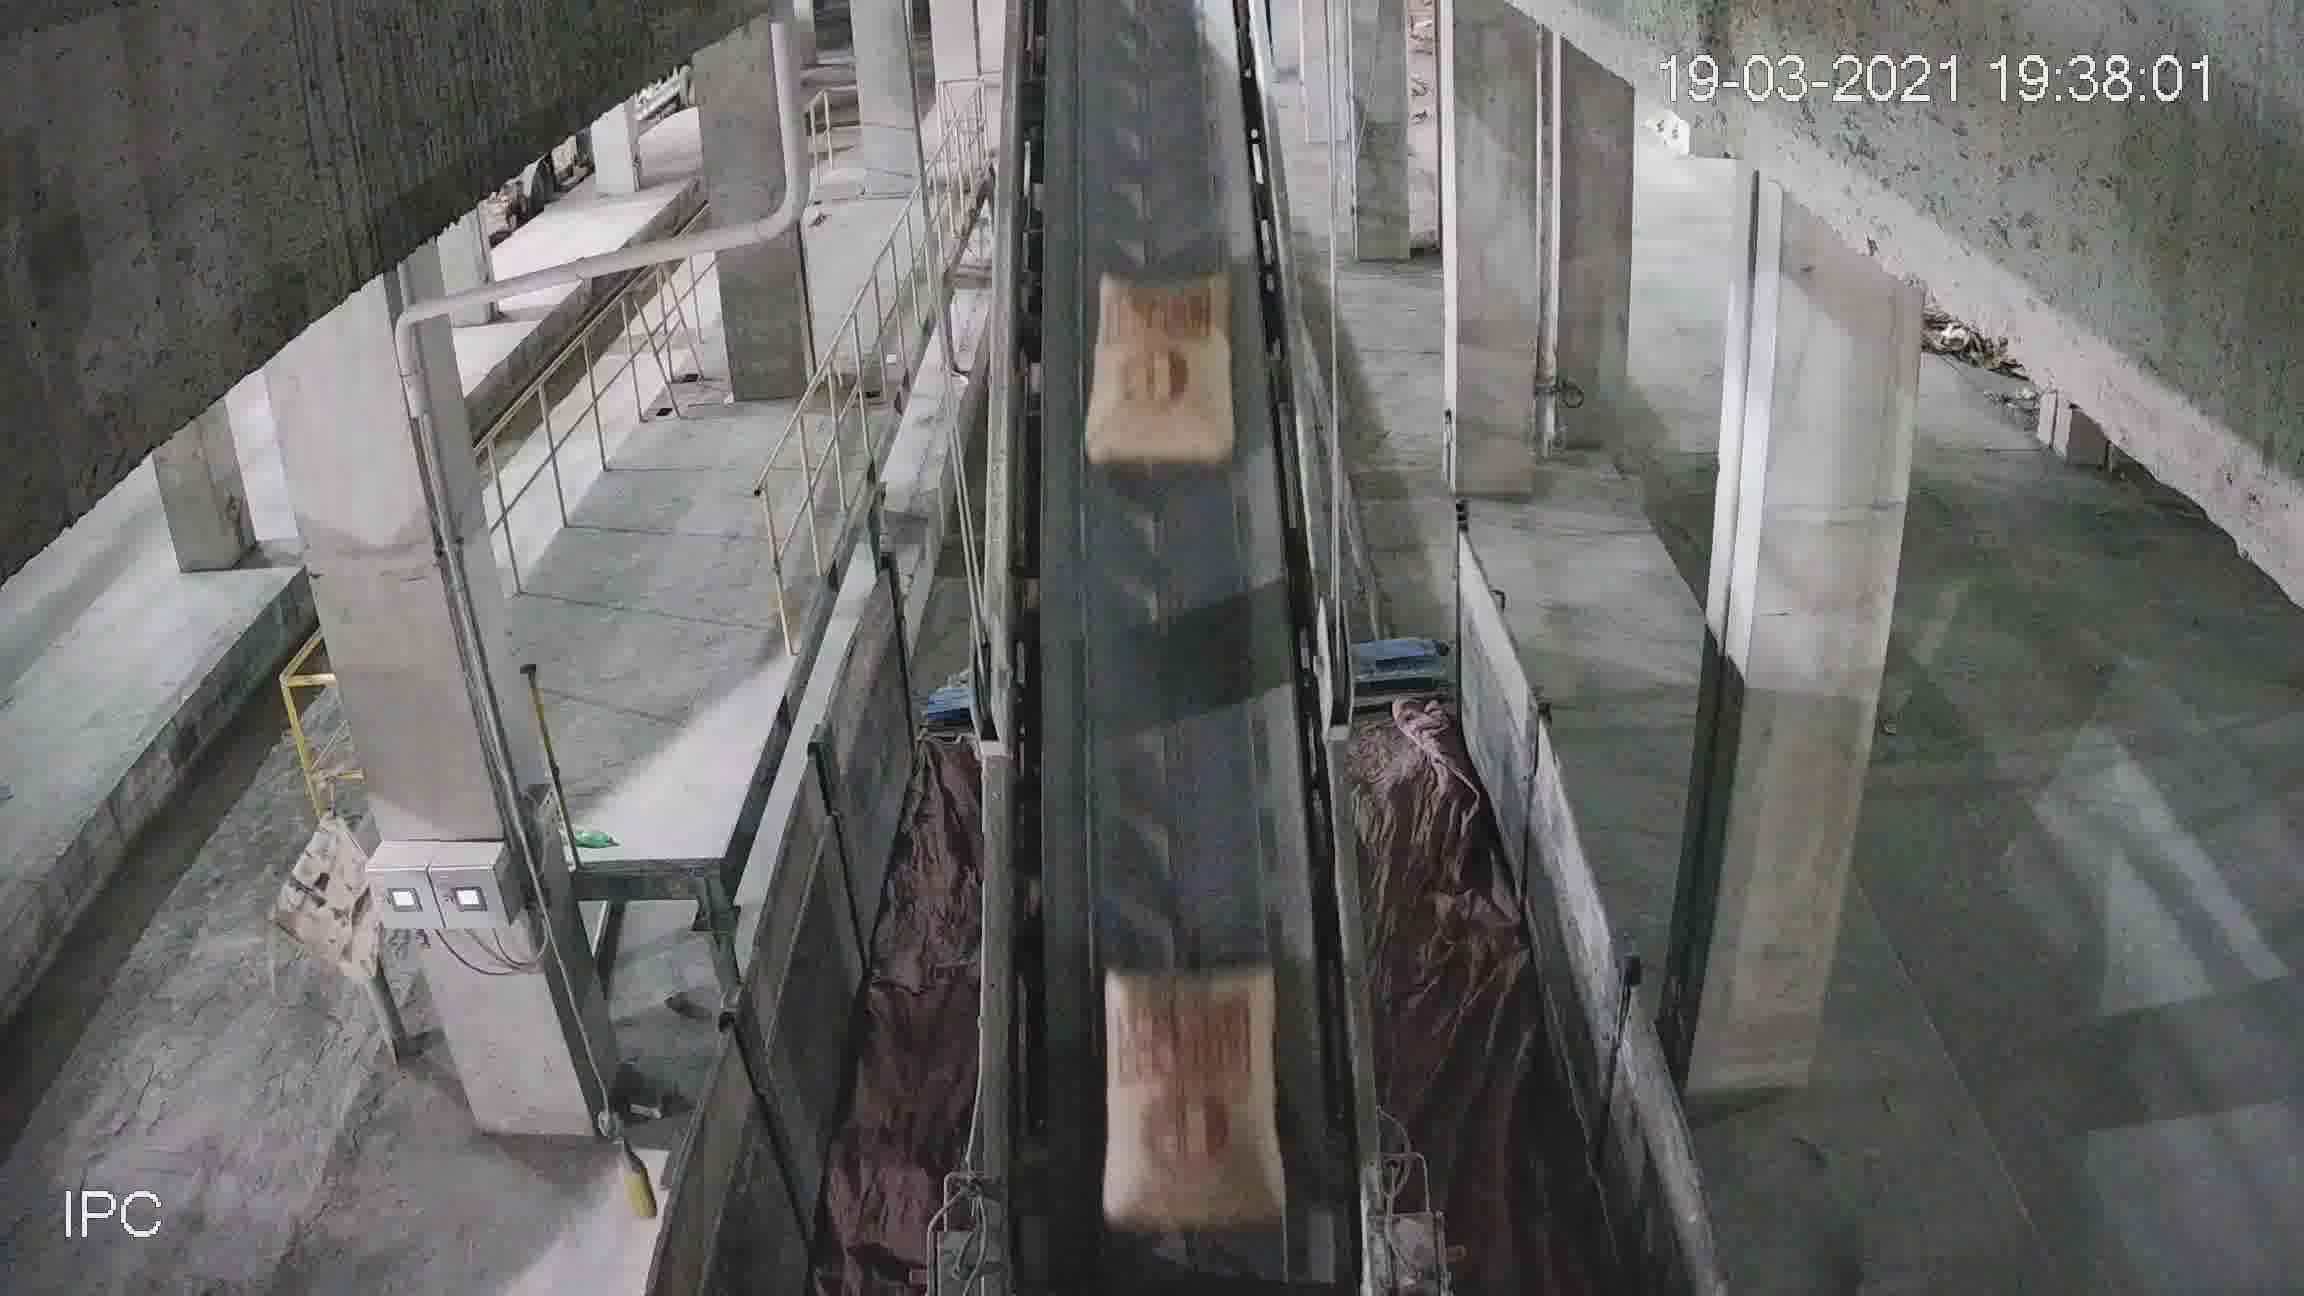bag: (1098, 956, 1275, 1180), (1086, 260, 1237, 465)
belt: (983, 81, 1343, 1124)
